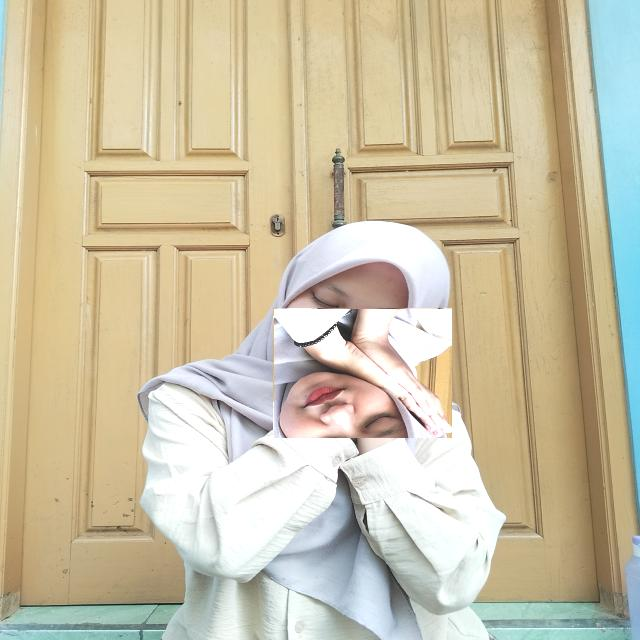tidur: (273, 308, 452, 438)
